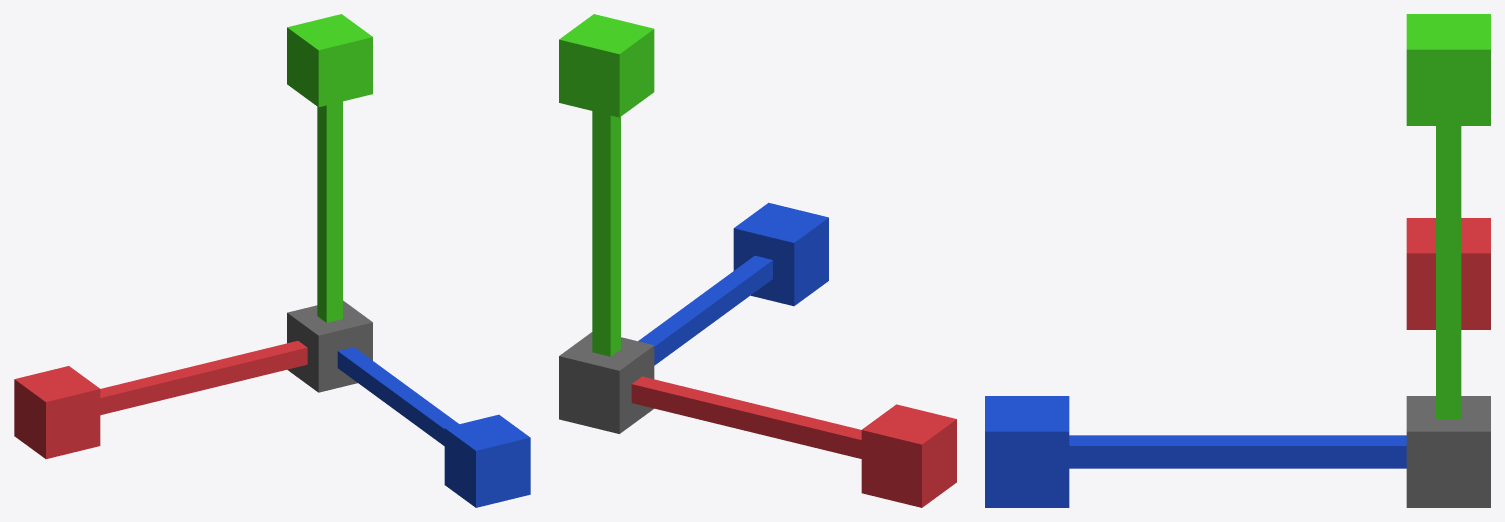
File: ScaleGizmo.fbx
The picture shows the model from 3 angles, left to right: view 1: azimuth 30°, elevation 25°; view 2: azimuth 150°, elevation 25°; view 3: azimuth 270°, elevation 25°; orthographic projection. The views are drawn at different scales.
Parts seen in each view (by area): view 1: Cube; view 2: Cube; view 3: Cube.
Boxes of the visible parts, x1=… form: Cube: x1=14, y1=14, x2=530, y2=507; Cube: x1=559, y1=14, x2=956, y2=507; Cube: x1=985, y1=14, x2=1490, y2=507.
Bounding box in the file's own units: 300 × 300 × 300.
